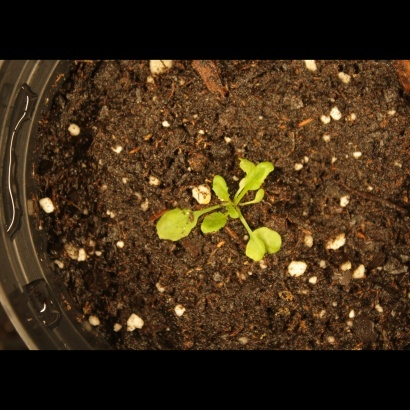leaf: (155, 201, 199, 246), (242, 222, 284, 263), (240, 162, 276, 196), (208, 172, 234, 207), (198, 211, 230, 238), (227, 202, 250, 225), (252, 191, 275, 214), (237, 152, 260, 175)
